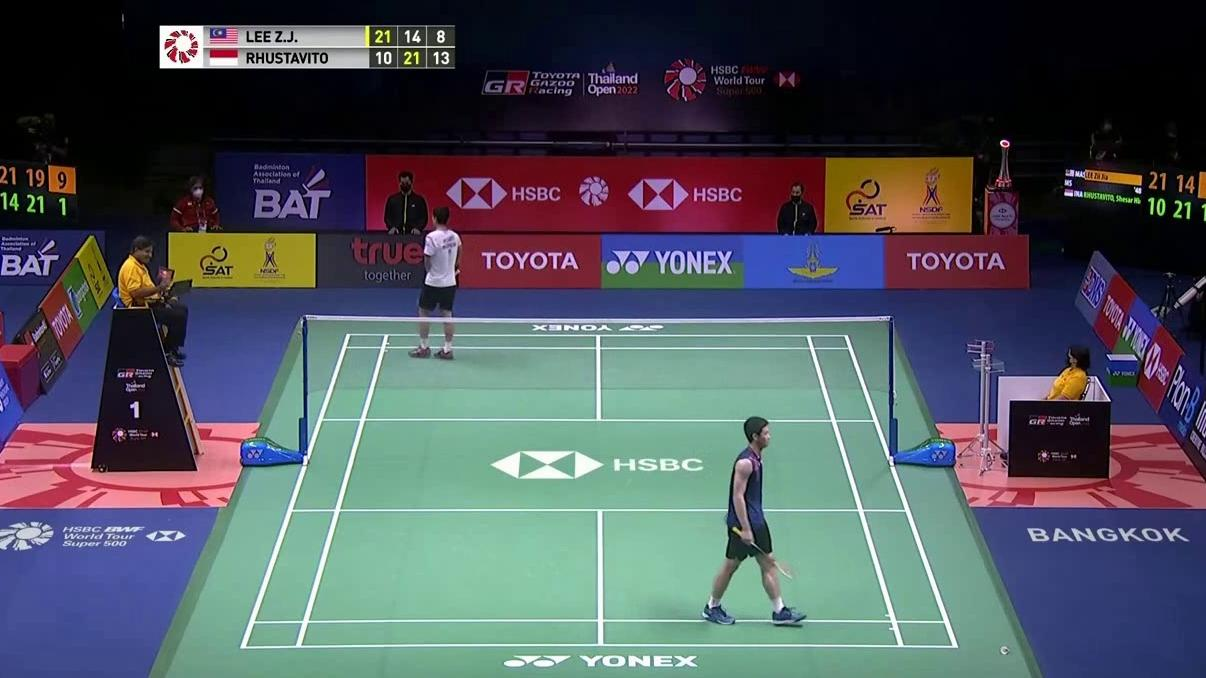racket: (731, 526, 796, 581), (454, 267, 461, 278)
shuttle: (1000, 645, 1010, 657)
